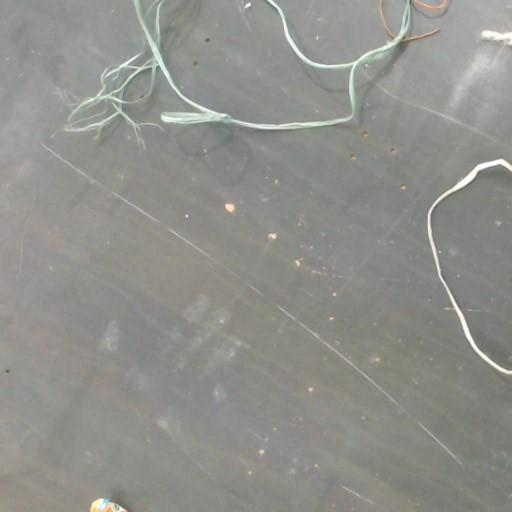conveyor belt: (161, 0, 349, 120), (432, 168, 511, 368), (276, 0, 388, 63)
thread: (65, 0, 450, 135), (427, 159, 511, 374), (480, 30, 511, 47)
